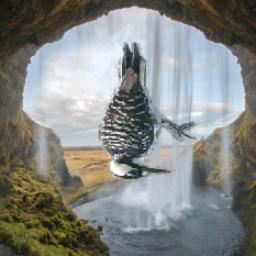Woodpecker: (96, 42, 200, 180)
